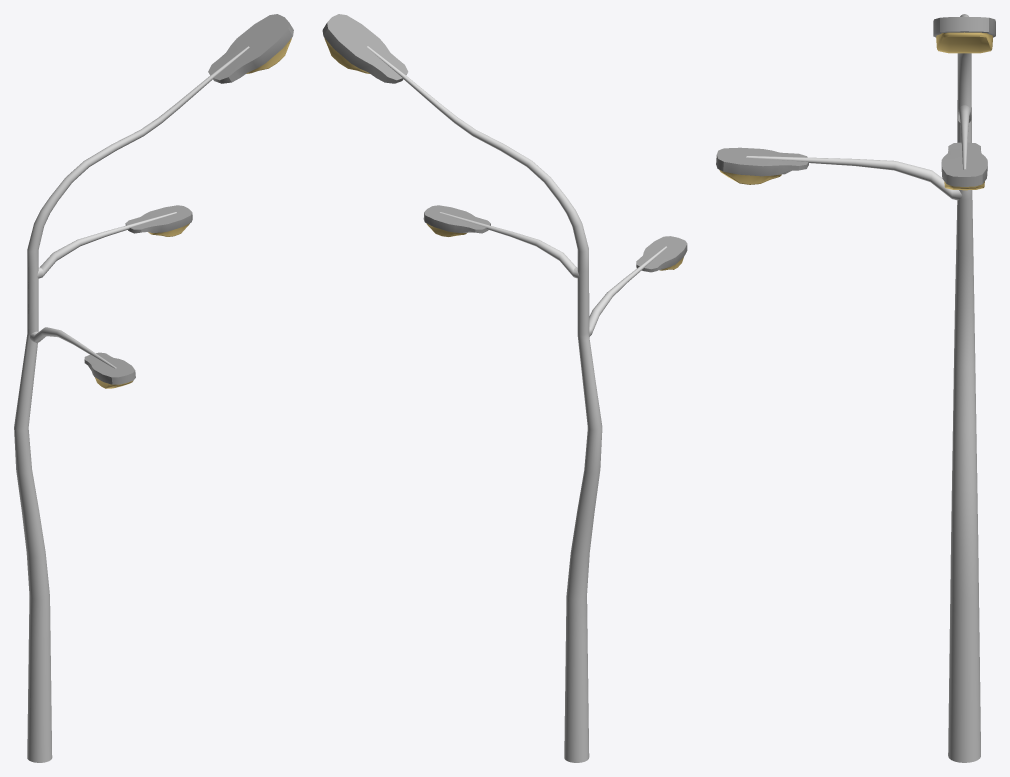
The model's file is streetlight_distorted_low.fbx.
The picture shows the model from 3 angles, left to right: view 1: azimuth 30°, elevation 25°; view 2: azimuth 150°, elevation 25°; view 3: azimuth 270°, elevation 25°; orthographic projection. The views are drawn at different scales.
Visible parts, largest first — view 1: StreetLightDistorted_low1; view 2: StreetLightDistorted_low1; view 3: StreetLightDistorted_low1.
Part boxes in pixels (left/top/right/bottom): StreetLightDistorted_low1: left=14, top=14, right=293, bottom=762; StreetLightDistorted_low1: left=322, top=14, right=687, bottom=762; StreetLightDistorted_low1: left=716, top=14, right=995, bottom=762.
Bounding box in the file's own units: 200 × 473 × 134.
